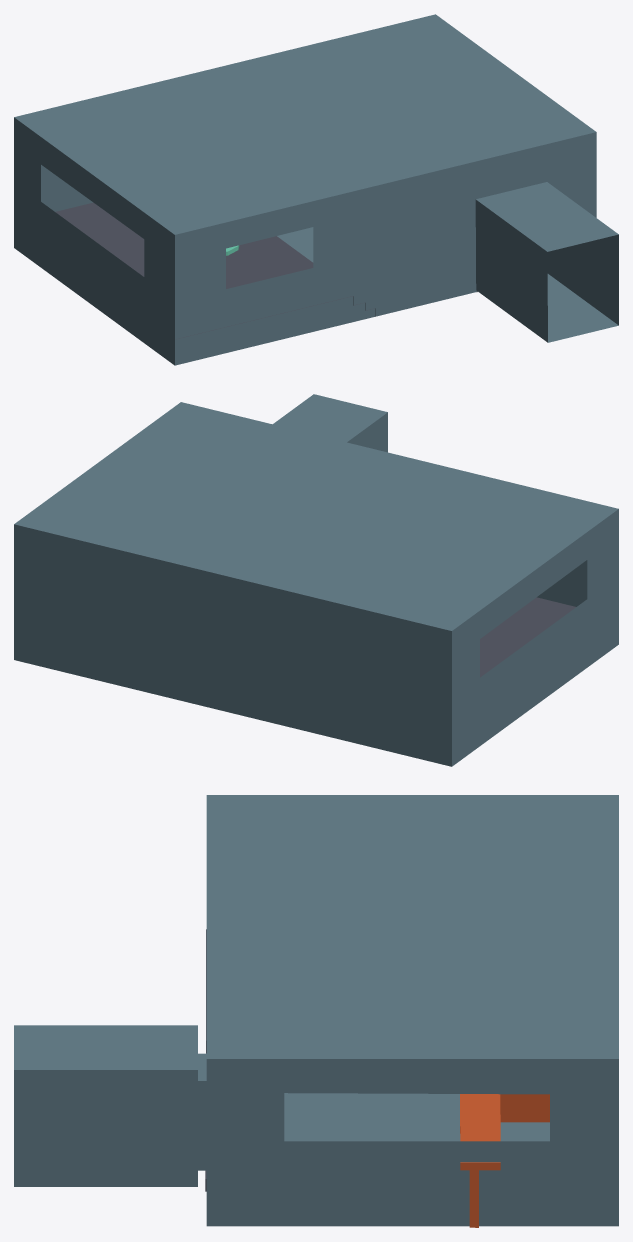
File: InnerCafe.fbx
3 views of the same model, one above another, from view 1: azimuth 30°, elevation 25°; view 2: azimuth 150°, elevation 25°; view 3: azimuth 270°, elevation 25° (orthographic). The views are drawn at different scales.
Visible parts, largest first — view 1: Walls, BigStair; view 2: Walls, BigStair; view 3: Walls, BarTable.
Boxes of the visible parts, x1=… form: Walls: x1=14, y1=14, x2=618, y2=365; BigStair: x1=55, y1=202, x2=375, y2=339; Walls: x1=14, y1=394, x2=618, y2=766; BigStair: x1=480, y1=597, x2=575, y2=677; Walls: x1=14, y1=795, x2=618, y2=1226; BarTable: x1=460, y1=1094, x2=549, y2=1227.
Size of the model in its own units: 2977 by 883 by 2878.
